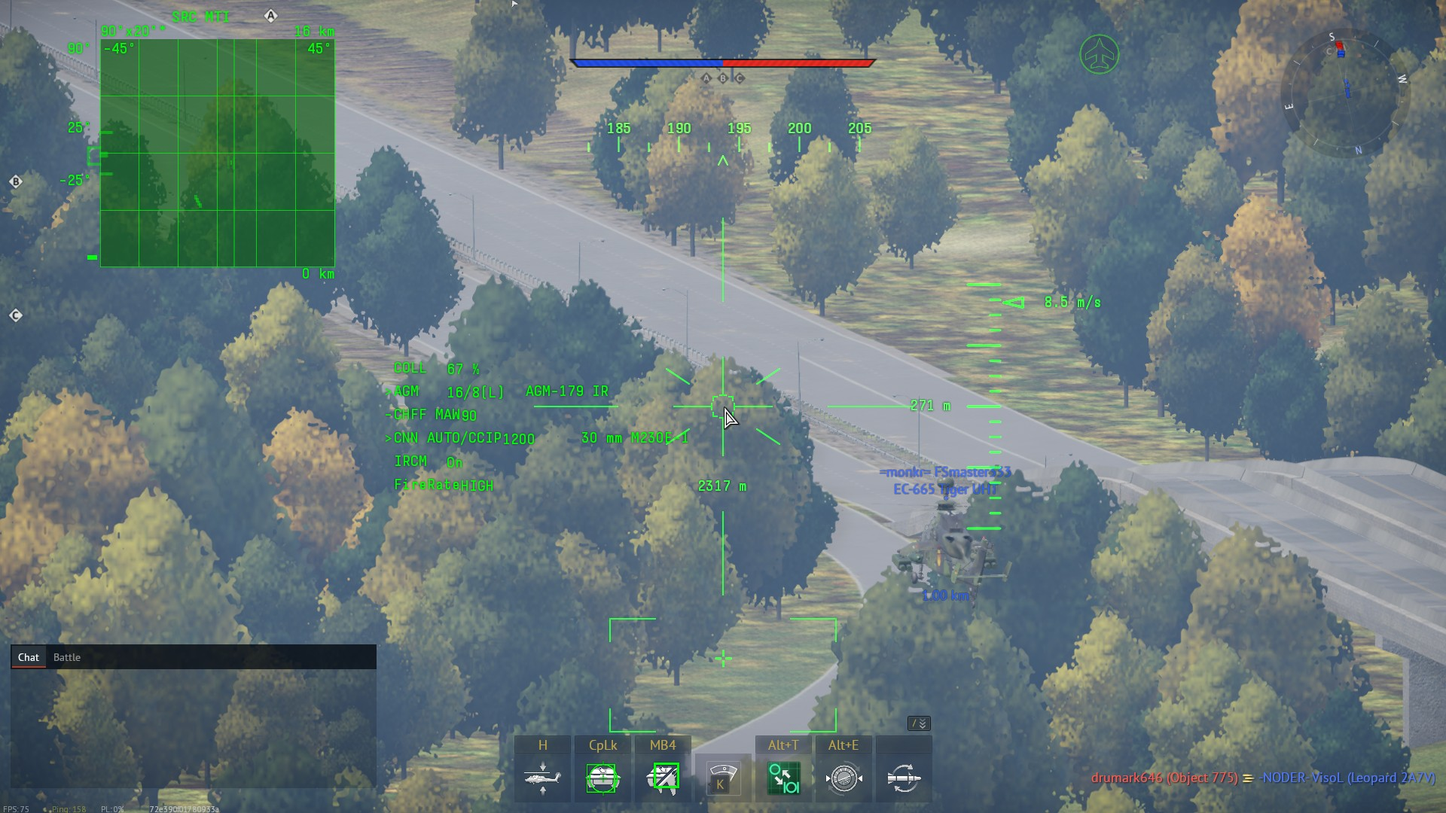ec665: (892, 478, 1016, 609)
